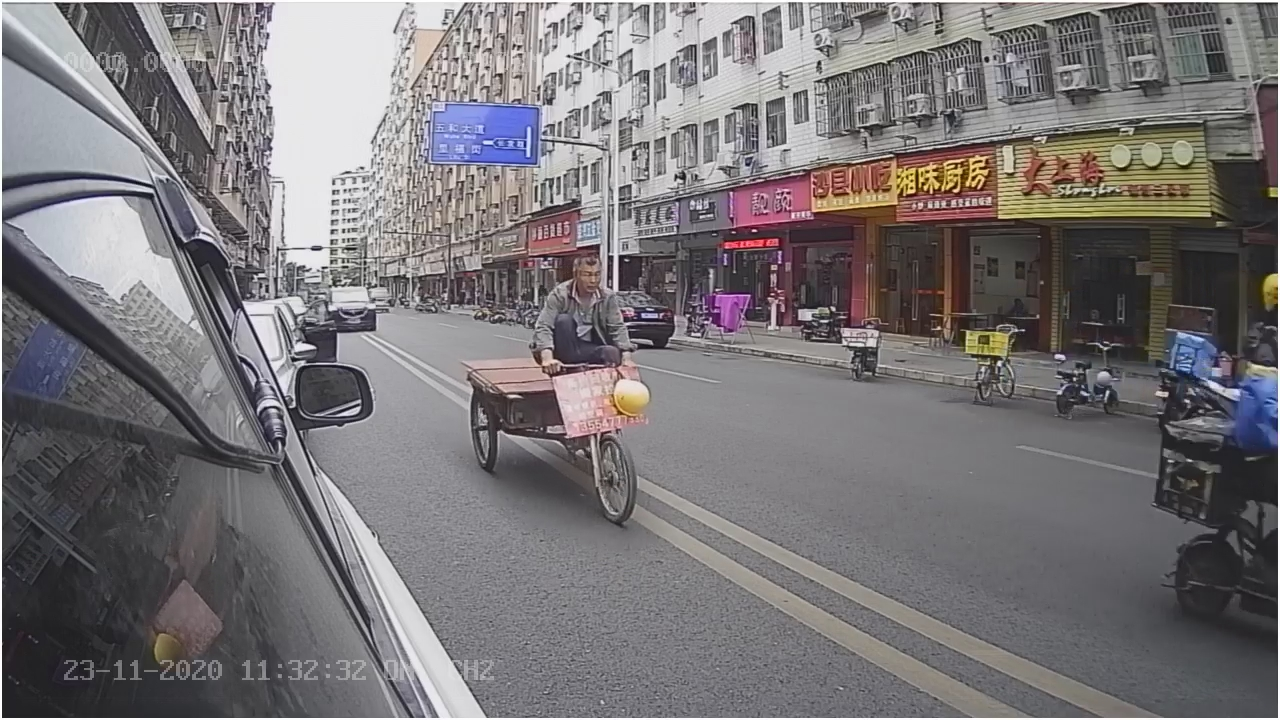person: (527, 248, 634, 375)
